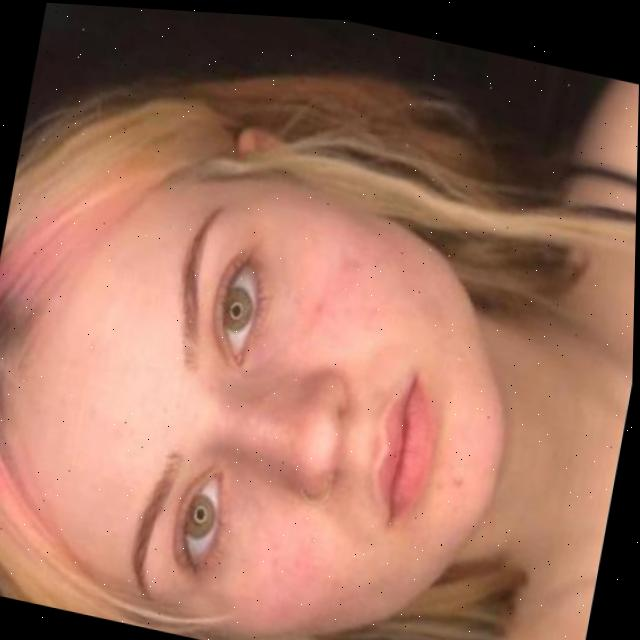Acne: (251, 530, 324, 618), (269, 275, 332, 358)
